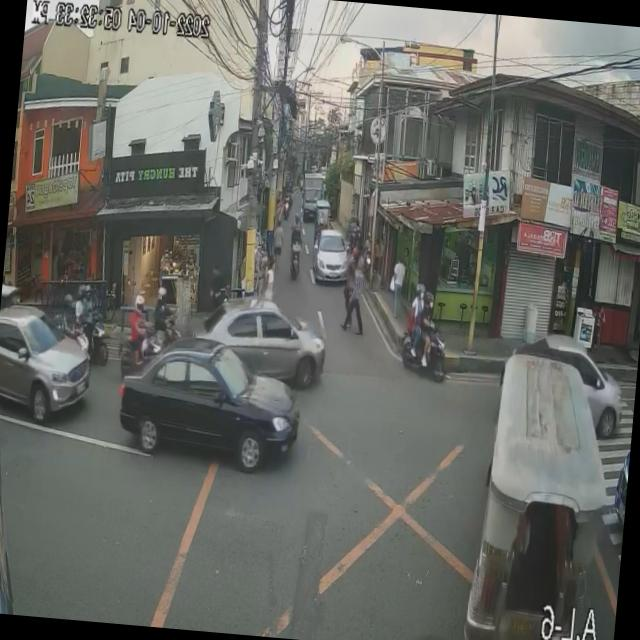full: (132, 292, 146, 315)
half: (156, 286, 167, 304)
